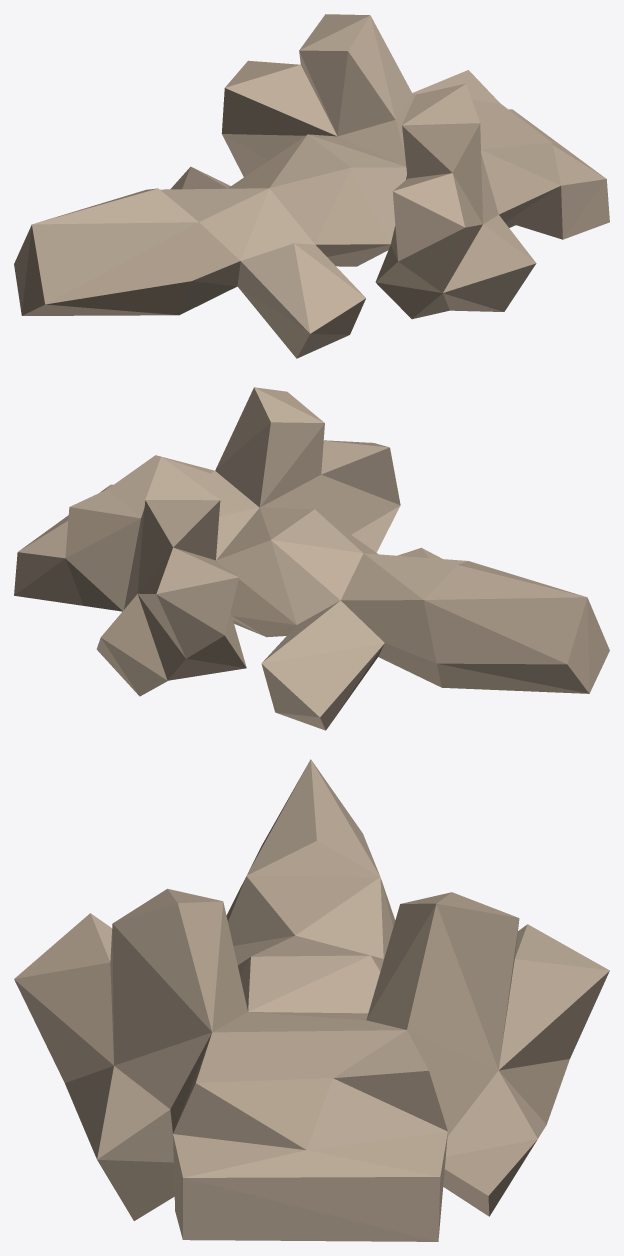
3 views of the same model, one above another, from view 1: azimuth 30°, elevation 25°; view 2: azimuth 150°, elevation 25°; view 3: azimuth 270°, elevation 25° (orthographic). The views are drawn at different scales.
Parts seen in each view (by area): view 1: part0; view 2: part0; view 3: part0.
Part boxes in pixels (<box>): part0: <box>14,14,609,358</box>; part0: <box>14,387,609,730</box>; part0: <box>14,759,609,1241</box>.
Bounding box in the file's own units: 10.08 × 4.1 × 7.08.
